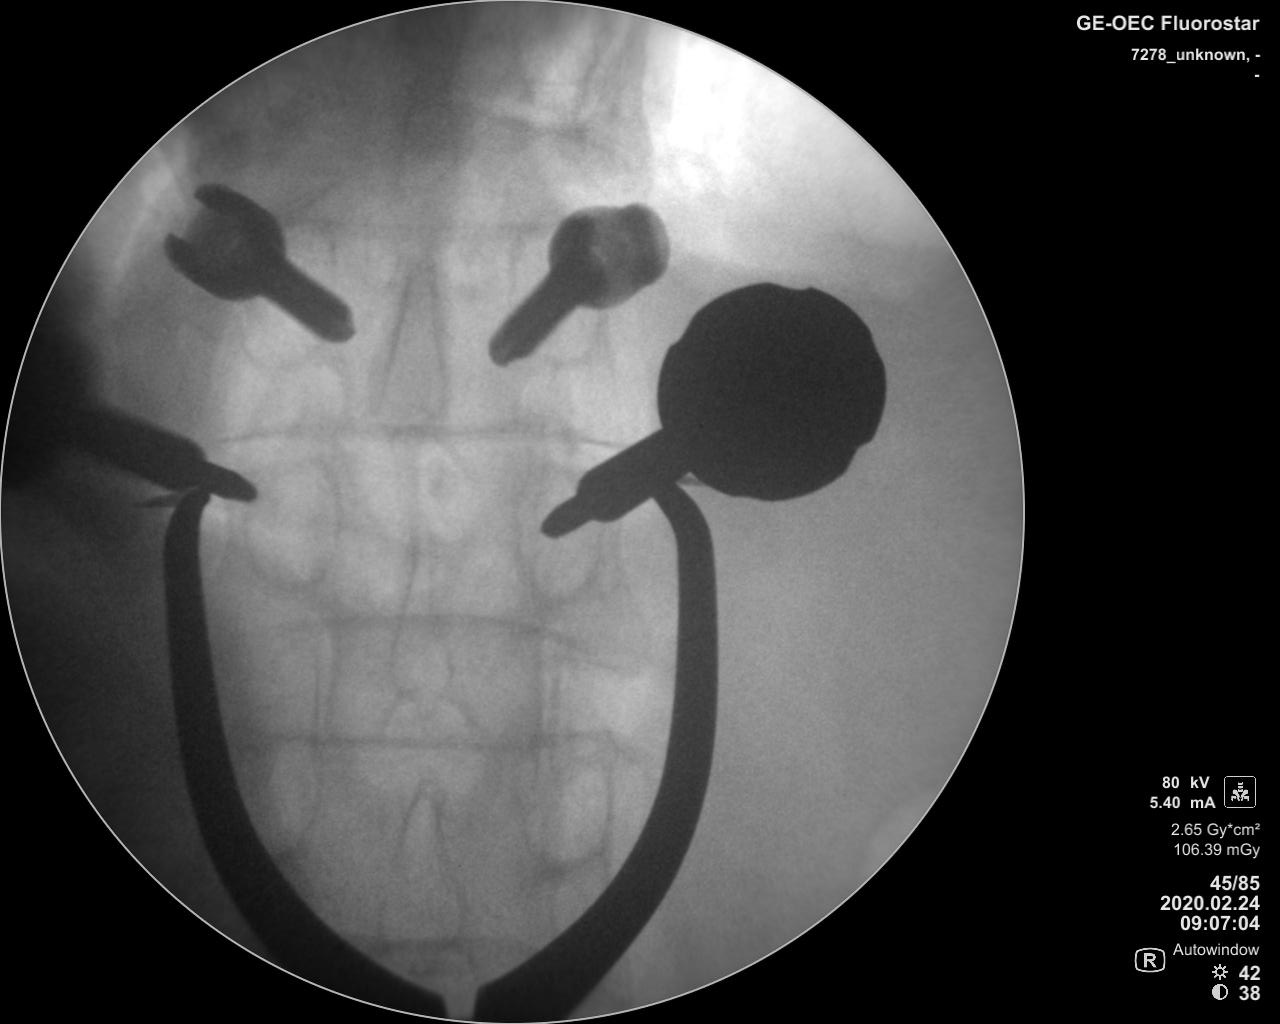eyes: (240, 453, 343, 591), (506, 236, 604, 369), (232, 237, 330, 369), (518, 735, 609, 872), (510, 468, 603, 601)
line: (209, 416, 613, 449), (240, 612, 590, 649), (288, 207, 553, 245), (255, 726, 557, 755)
nose: (380, 769, 462, 983), (377, 249, 447, 436), (385, 516, 453, 703), (389, 50, 466, 213)
